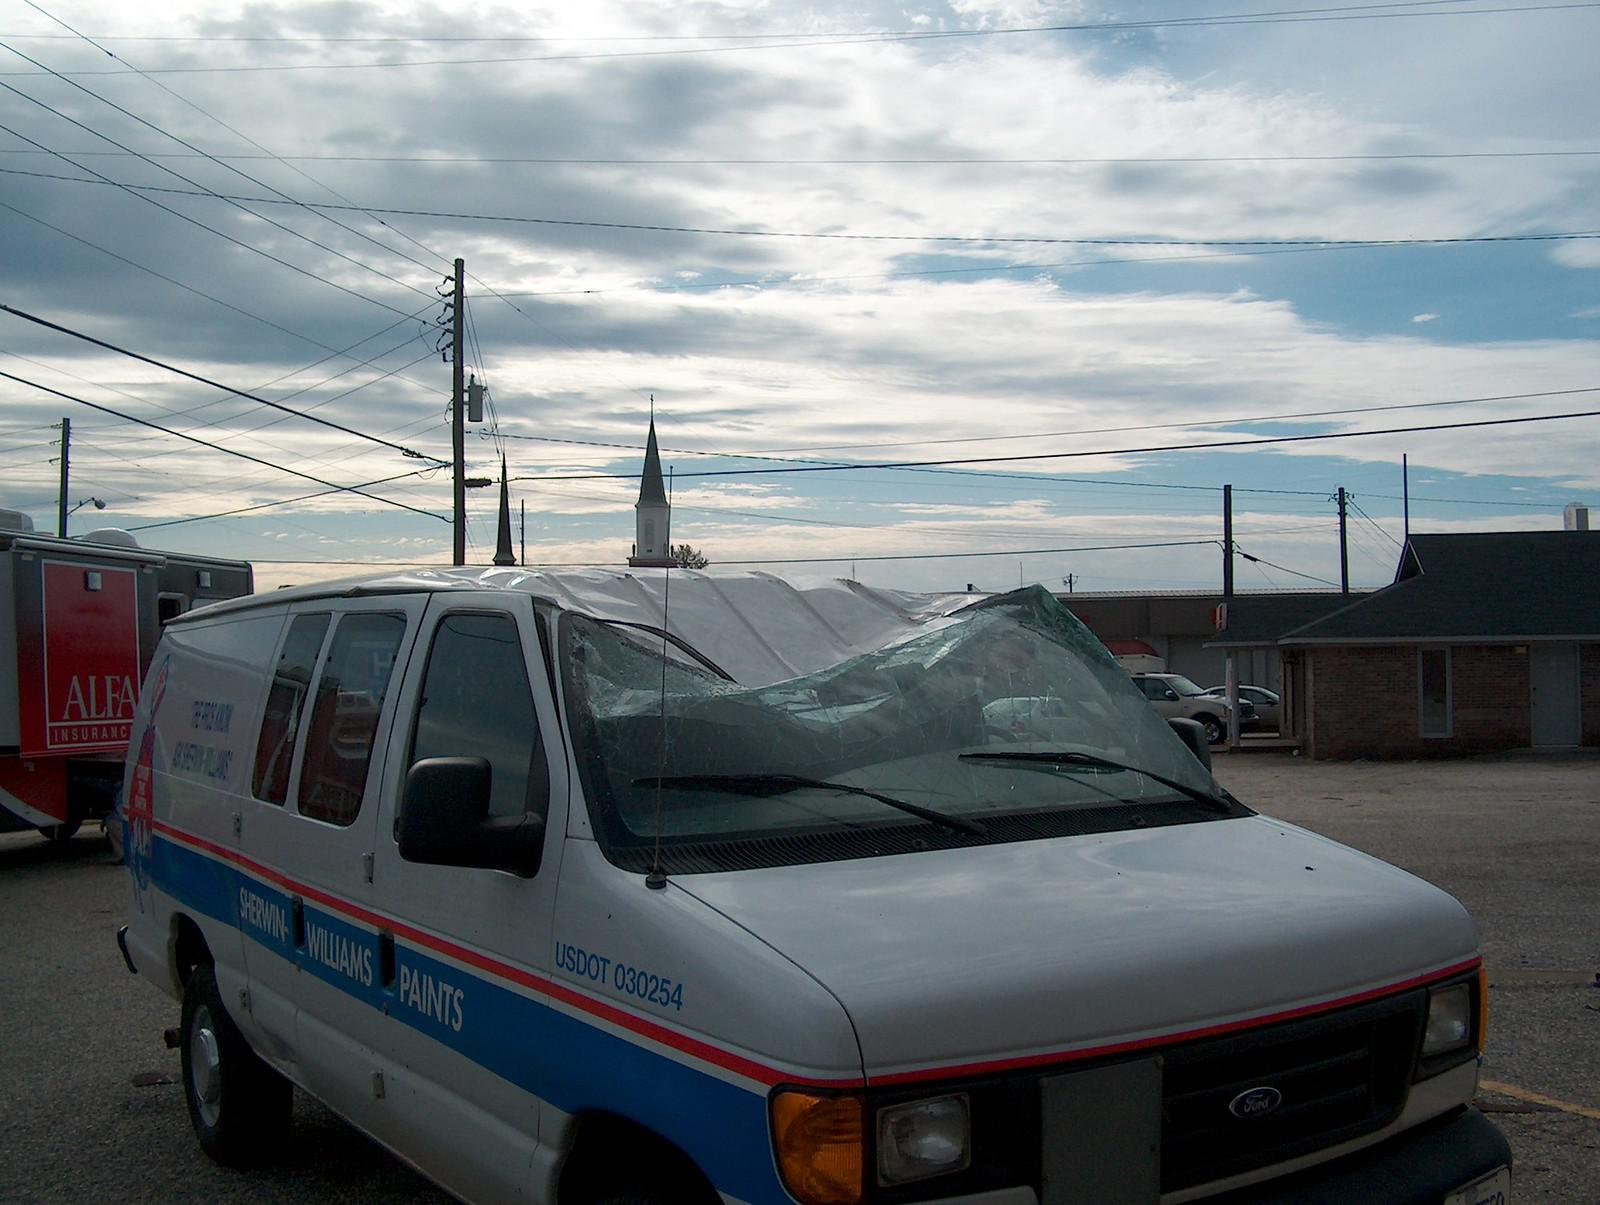Front-Windscreen-Damage: (551, 610, 1170, 835)
roof-dent: (130, 503, 1080, 686)
